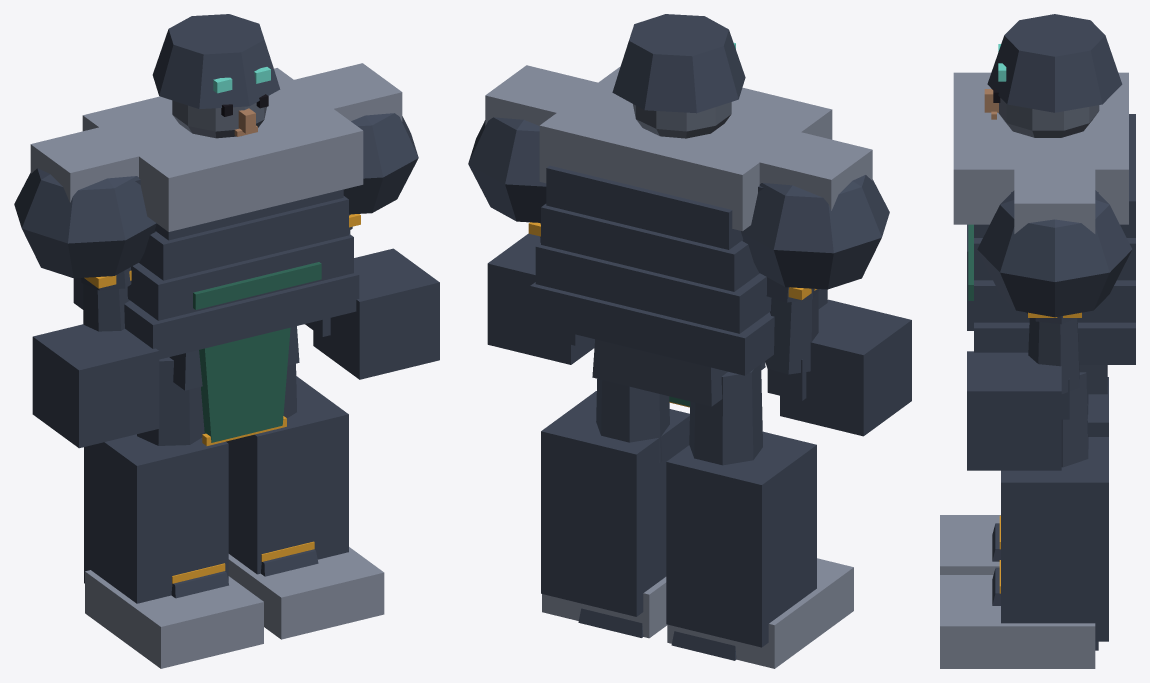
The model's file is golem.obj.
The picture shows the model from 3 angles, left to right: view 1: azimuth 30°, elevation 25°; view 2: azimuth 150°, elevation 25°; view 3: azimuth 270°, elevation 25°; orthographic projection. The views are drawn at different scales.
Parts seen in each view (by area): view 1: torso, leg_r, arm_r, leg_l, arm_l, head, hips; view 2: torso, leg_r, arm_r, leg_l, arm_l, head, hips; view 3: arm_l, leg_l, torso, head, leg_r, hips, arm_r.
Part boxes in pixels (x1,y1,x2,y2): torso: [73, 68, 363, 445]; leg_r: [84, 357, 263, 668]; arm_r: [14, 127, 159, 448]; leg_l: [226, 363, 384, 639]; arm_l: [288, 63, 439, 379]; head: [152, 14, 280, 138]; hips: [169, 326, 299, 390]; torso: [530, 66, 832, 407]; leg_r: [666, 364, 853, 668]; arm_r: [741, 131, 911, 436]; leg_l: [541, 379, 689, 638]; arm_l: [468, 65, 603, 364]; head: [612, 14, 745, 138]; hips: [592, 339, 765, 406]; arm_l: [967, 166, 1132, 470]; leg_l: [940, 372, 1108, 668]; torso: [953, 72, 1135, 364]; head: [984, 14, 1122, 137]; leg_r: [940, 377, 1108, 574]; hips: [1079, 365, 1107, 394]; arm_r: [967, 224, 973, 330].
Bounding box in the file's own units: 0.68 × 0.945 × 0.29.
